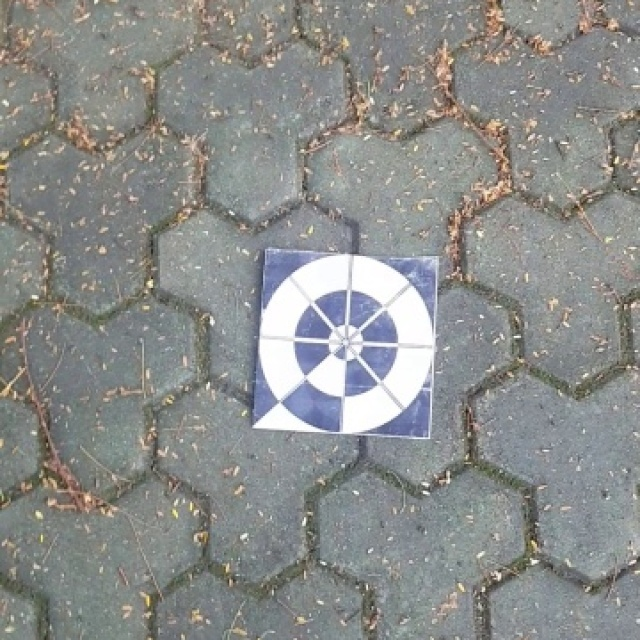landing-zone: (249, 245, 442, 446)
